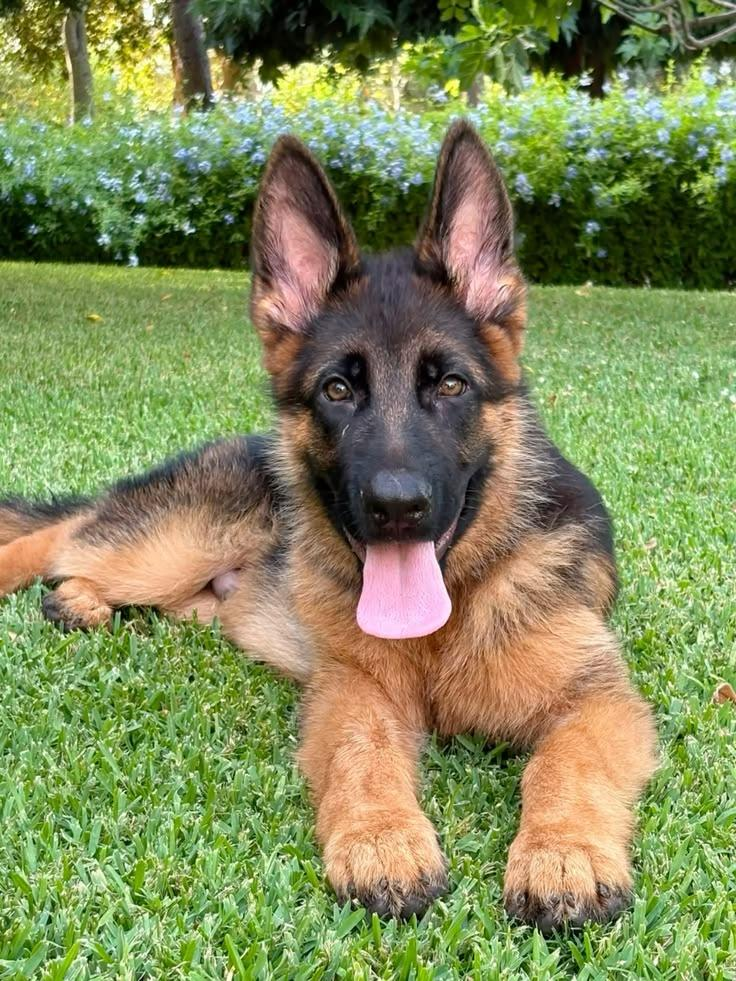dog: (0, 122, 654, 928)
